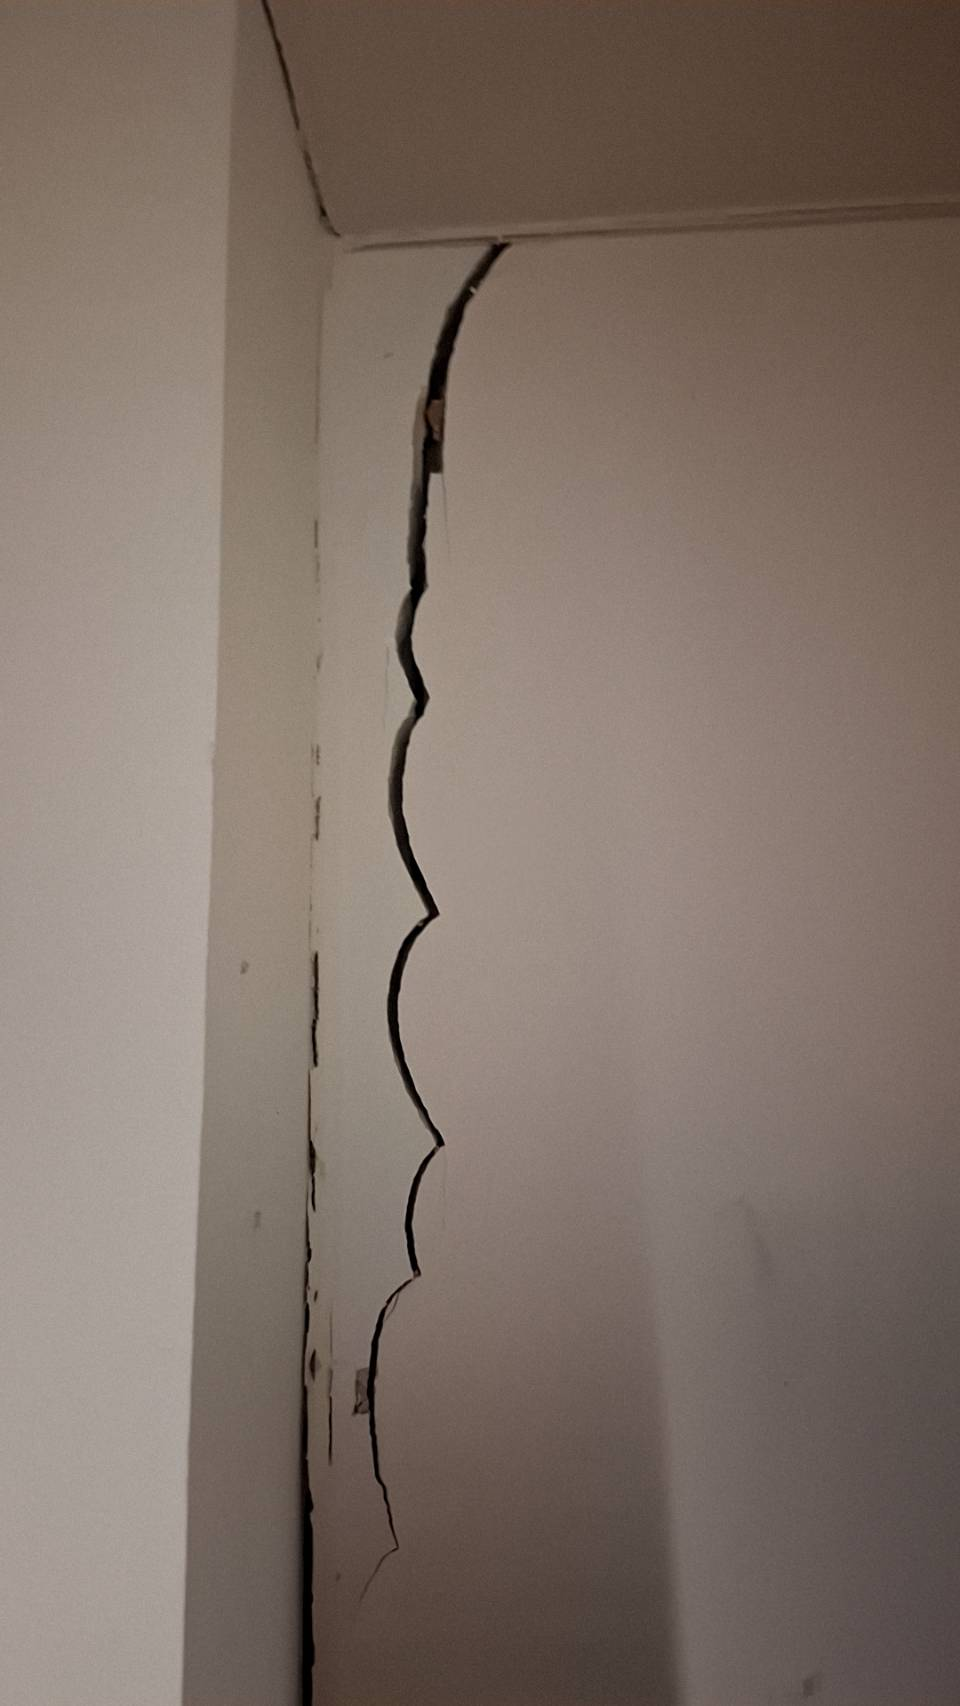High: (248, 220, 535, 1701)
